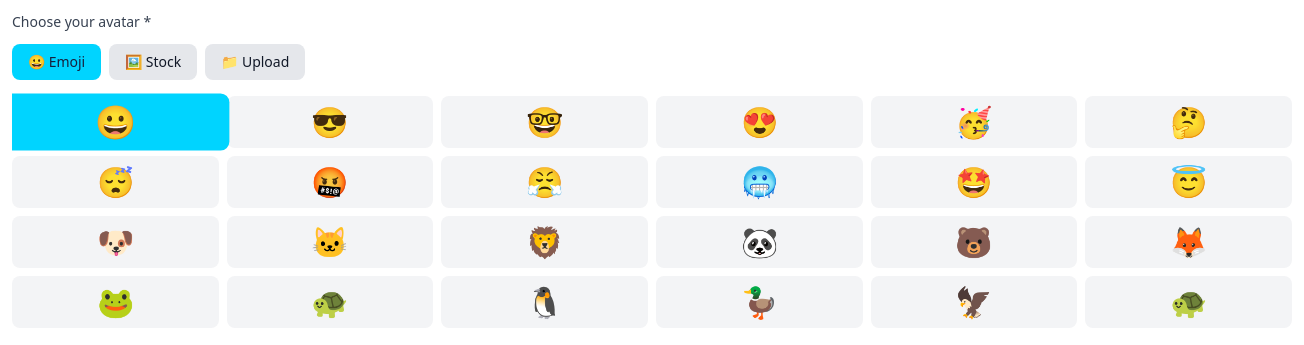
Test: AvatarSelector › should switch to upload tab when clicked
Click the button "📁 Upload".
click(255, 62)  # box [205,44,305,80]
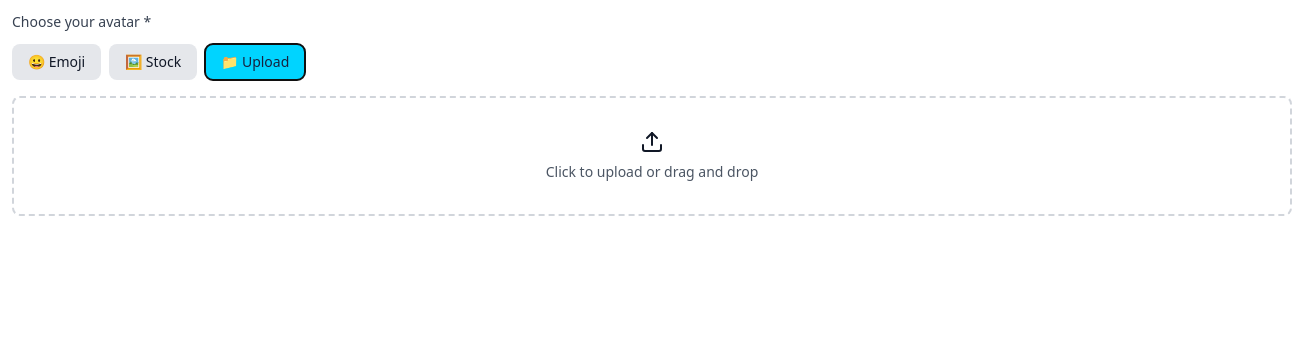
Check: the icon with test id "upload-icon" is shown, box [640,130,664,154]
